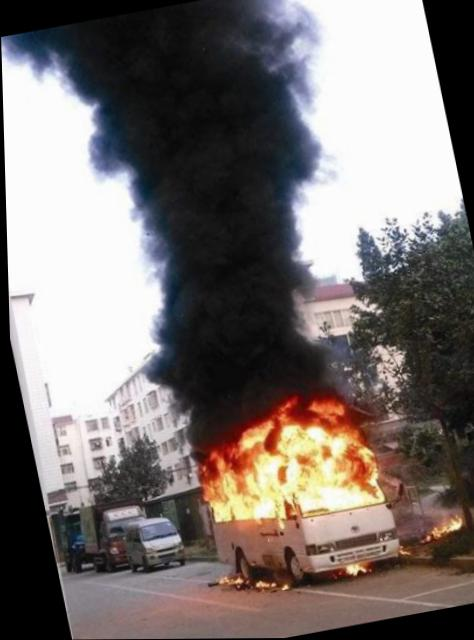fire: (278, 421, 379, 516), (200, 451, 291, 522), (272, 392, 344, 437), (229, 418, 274, 461), (427, 514, 461, 534), (201, 445, 234, 464), (338, 560, 368, 578), (214, 572, 243, 585), (252, 575, 275, 588), (277, 580, 290, 589)
